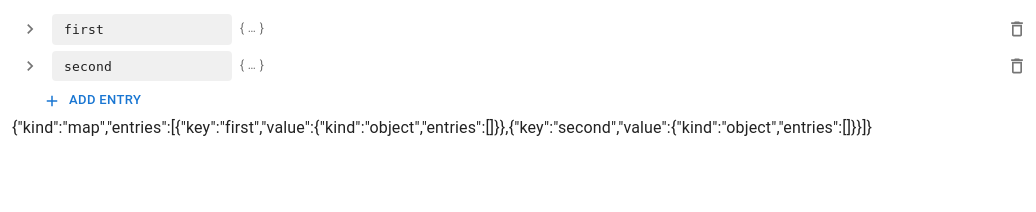
Scenario: ValueEditor map accordions › allows manual sibling switching and preserves recursive values
Step 1. Click the button named "first" → [30, 29], box [16,15,44,43]
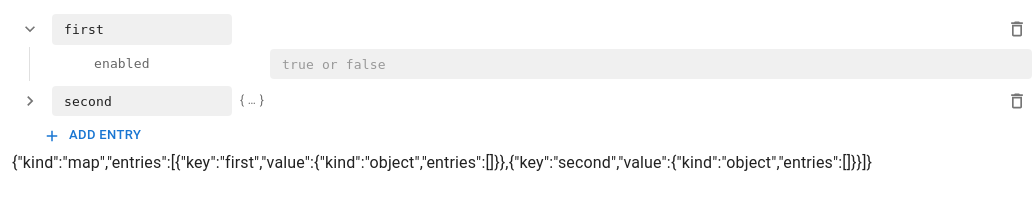
Check: the button named "first" is expanded, box [16,15,44,43]
Step 2. Type "true" into the field with placeholder "true or false" → [651, 64], box [270,49,1032,79]
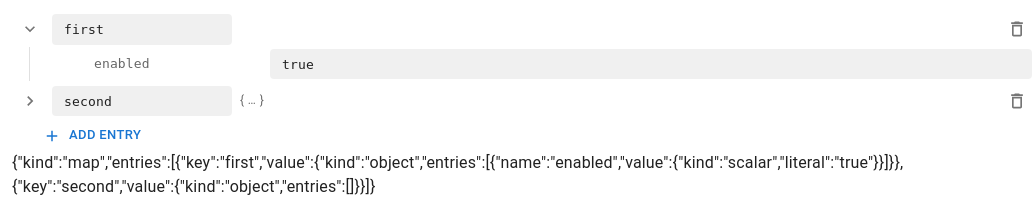
Step 3. Click the button named "second" → [30, 101], box [16,87,44,115]
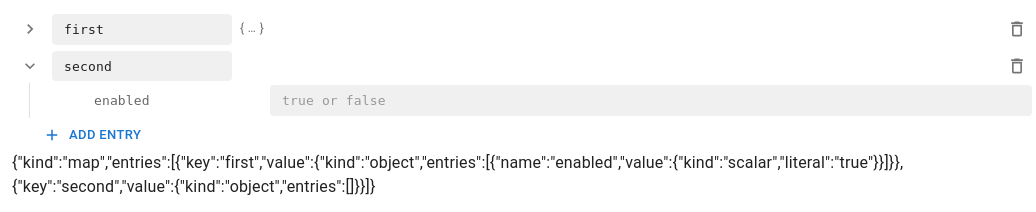
Check: the text with test id "value" shows "\"literal\":\"true\"", box [12,153,903,196]
Check: the button named "first" is collapsed, box [16,15,44,43]
Check: the button named "second" is expanded, box [16,52,44,80]
